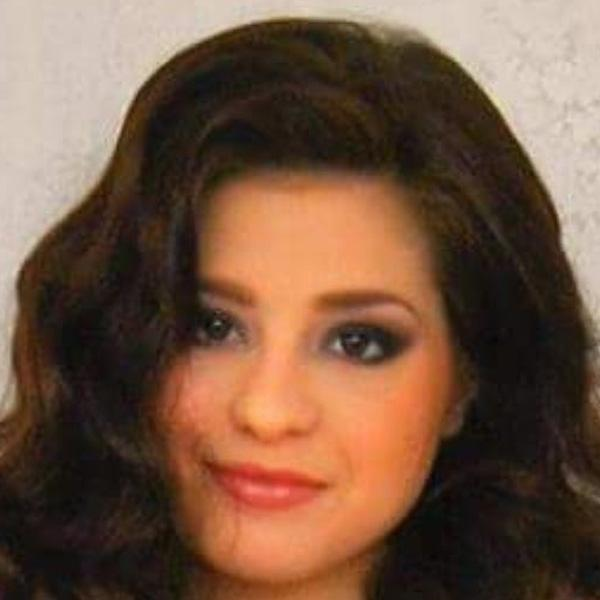Eyes: (310, 314, 405, 371), (172, 299, 252, 355)
